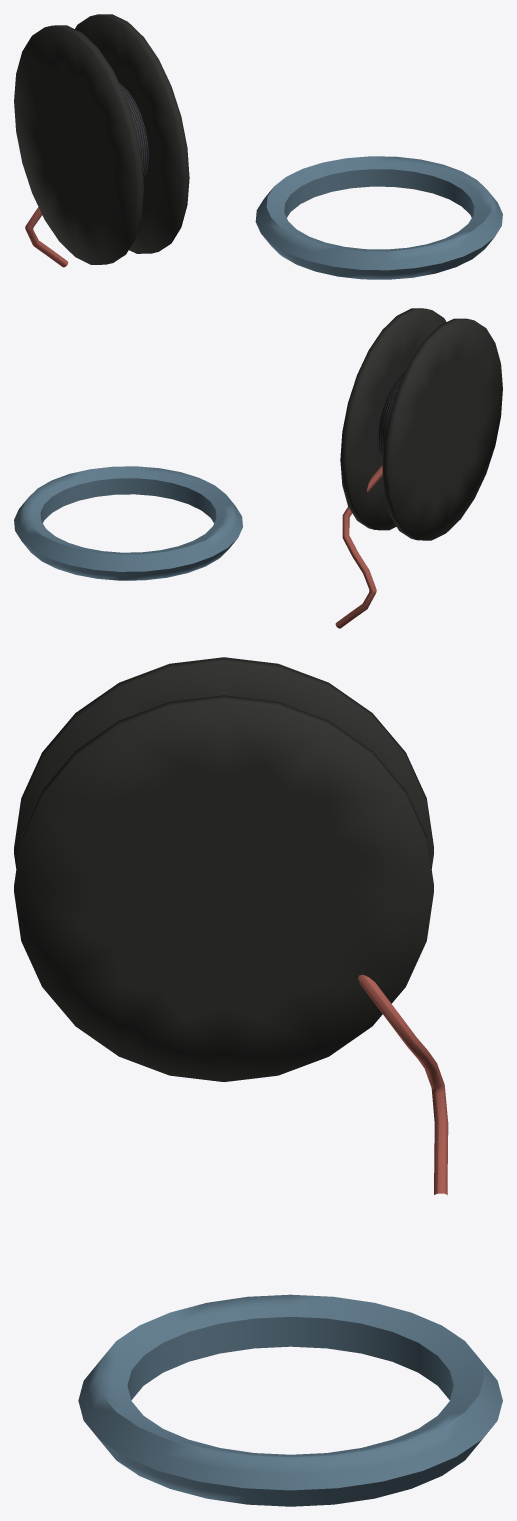
The model's file is CuonDayDien_2.glb.
3 renders of one model, top to bottom at view 1: azimuth 30°, elevation 25°; view 2: azimuth 150°, elevation 25°; view 3: azimuth 270°, elevation 25°, orthographic. The views are drawn at different scales.
Parts seen in each view (by area): view 1: CuonDayDien, CuonDayDien_2; view 2: CuonDayDien, CuonDayDien_2; view 3: CuonDayDien, CuonDayDien_2.
Part boxes in pixels (x1=…): CuonDayDien: x1=14, y1=14, x2=189, y2=267; CuonDayDien_2: x1=255, y1=156, x2=502, y2=279; CuonDayDien: x1=335, y1=308, x2=502, y2=628; CuonDayDien_2: x1=14, y1=466, x2=242, y2=580; CuonDayDien: x1=14, y1=657, x2=448, y2=1194; CuonDayDien_2: x1=78, y1=1294, x2=502, y2=1506.
Size of the model in its own units: 0.6673 by 0.4304 by 0.383.
4 materials, 1 textured.
